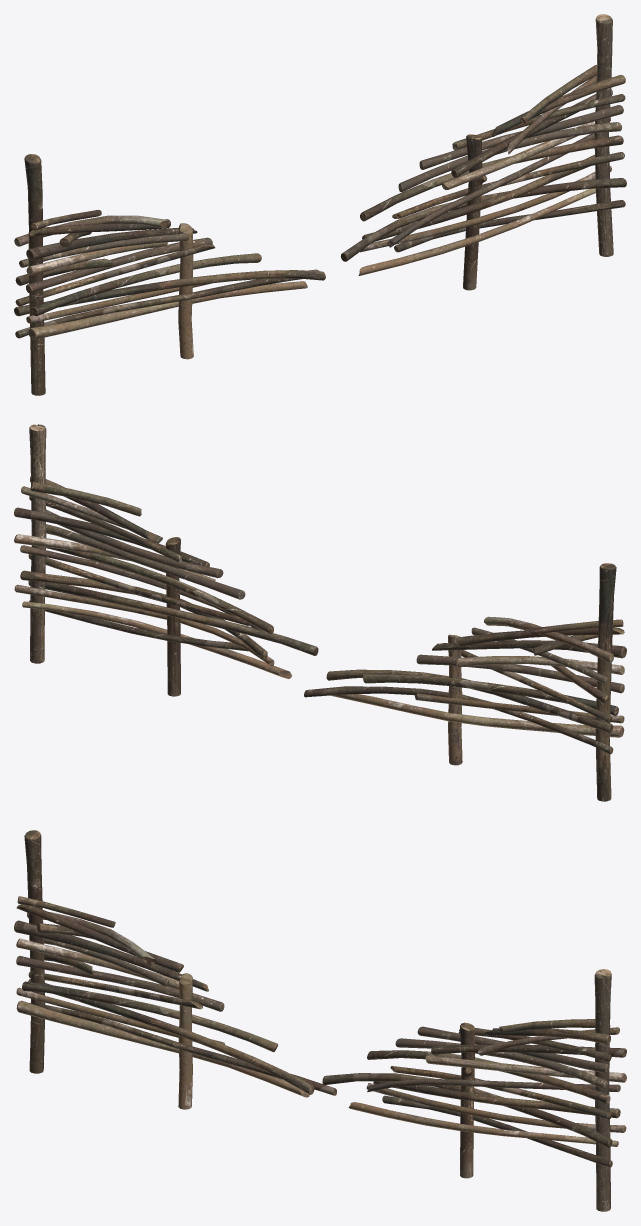
The picture shows the model from 3 angles, top to bottom: view 1: azimuth 30°, elevation 25°; view 2: azimuth 150°, elevation 25°; view 3: azimuth 330°, elevation 25°; orthographic projection.
Visible parts, largest first — view 1: SM_Wicker_Fence_01v5_LOD0; view 2: SM_Wicker_Fence_01v5_LOD0; view 3: SM_Wicker_Fence_01v5_LOD0.
Part boxes in pixels (x1,y1,x2,y2): SM_Wicker_Fence_01v5_LOD0: (14,14,626,395); SM_Wicker_Fence_01v5_LOD0: (14,424,626,801); SM_Wicker_Fence_01v5_LOD0: (14,830,626,1211).
Size of the model in its own units: 4 by 1.51 by 0.3037.
1 material, 1 textured.
